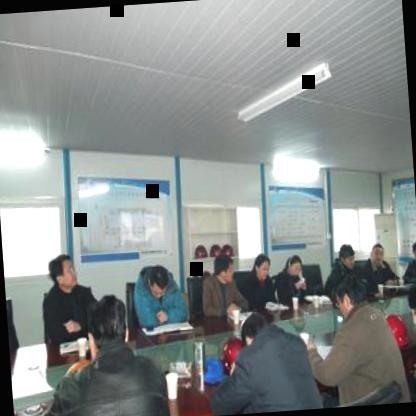head: (82, 288, 132, 363), (332, 268, 378, 329), (236, 310, 273, 356), (46, 249, 80, 292), (143, 261, 173, 299), (210, 254, 238, 289), (251, 248, 275, 282), (284, 250, 307, 284), (368, 238, 390, 268), (338, 244, 358, 270), (407, 279, 416, 329), (409, 237, 416, 267)
